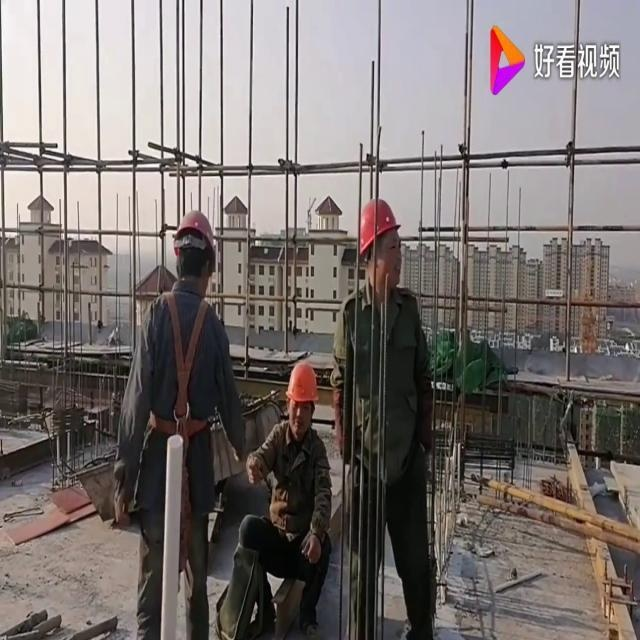Arnes_seguridad: (146, 286, 219, 439)
